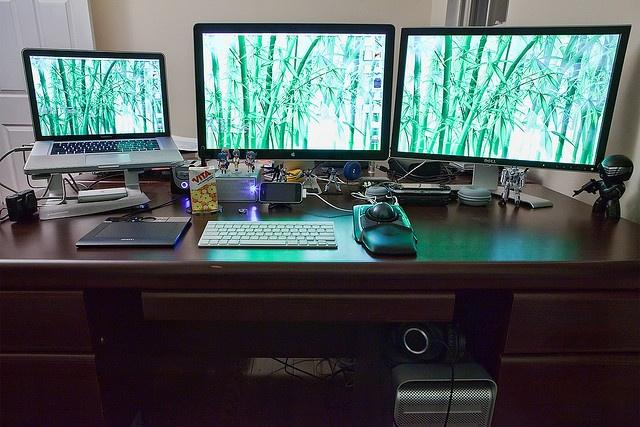AIO PC-Monitor-TV: (388, 23, 632, 173), (192, 22, 396, 160)
